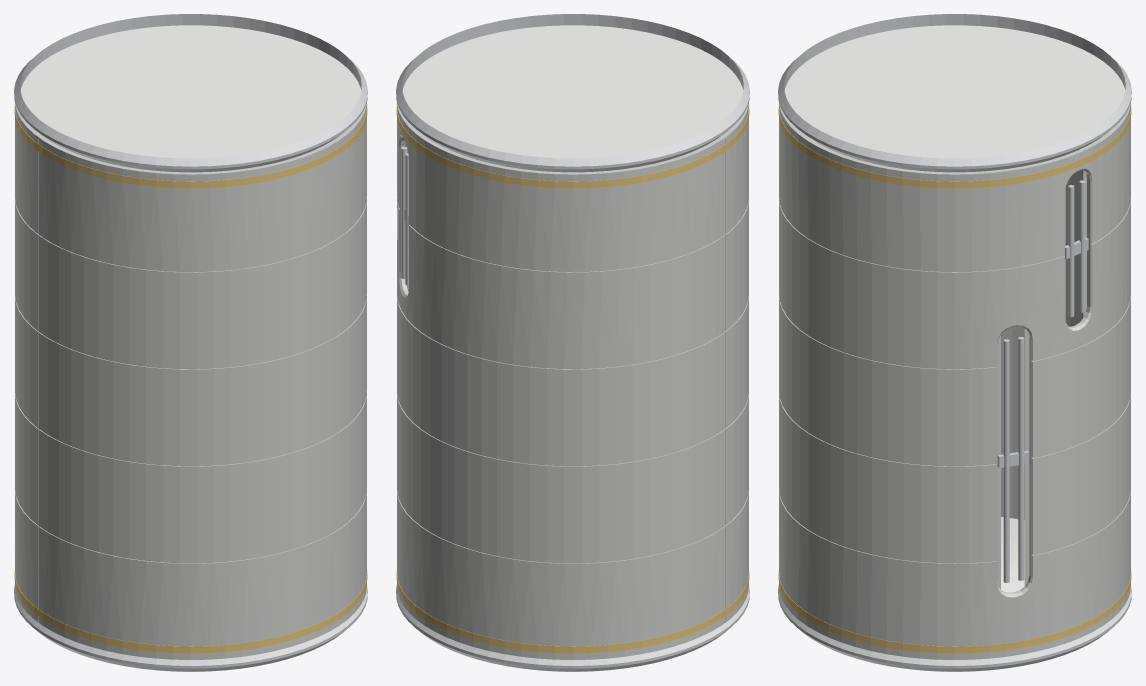
The model's file is ax_tank_12_isru_lox_l.glb.
3 renders of one model, left to right at view 1: azimuth 30°, elevation 25°; view 2: azimuth 150°, elevation 25°; view 3: azimuth 270°, elevation 25°, orthographic.
Parts seen in each view (by area): view 1: mli_blanket, dome_caps, end_rings, blanket_bands; view 2: mli_blanket, dome_caps, end_rings, blanket_bands, raceway_lines; view 3: mli_blanket, dome_caps, end_rings, raceway_lines, blanket_bands.
Boxes of the visible parts, box(x1,y1,x2,y2) form: mli_blanket: box(15, 102, 366, 659); dome_caps: box(20, 25, 361, 158); end_rings: box(14, 14, 367, 671); blanket_bands: box(14, 104, 367, 653); mli_blanket: box(397, 102, 748, 659); dome_caps: box(402, 25, 743, 158); end_rings: box(396, 14, 749, 671); blanket_bands: box(396, 104, 749, 653); raceway_lines: box(401, 147, 409, 287); mli_blanket: box(779, 102, 1130, 659); dome_caps: box(784, 25, 1125, 592); end_rings: box(778, 14, 1131, 671); raceway_lines: box(997, 180, 1088, 582); blanket_bands: box(778, 104, 1131, 653).
Bounding box in the file's own units: 3.75 × 6 × 3.75.
